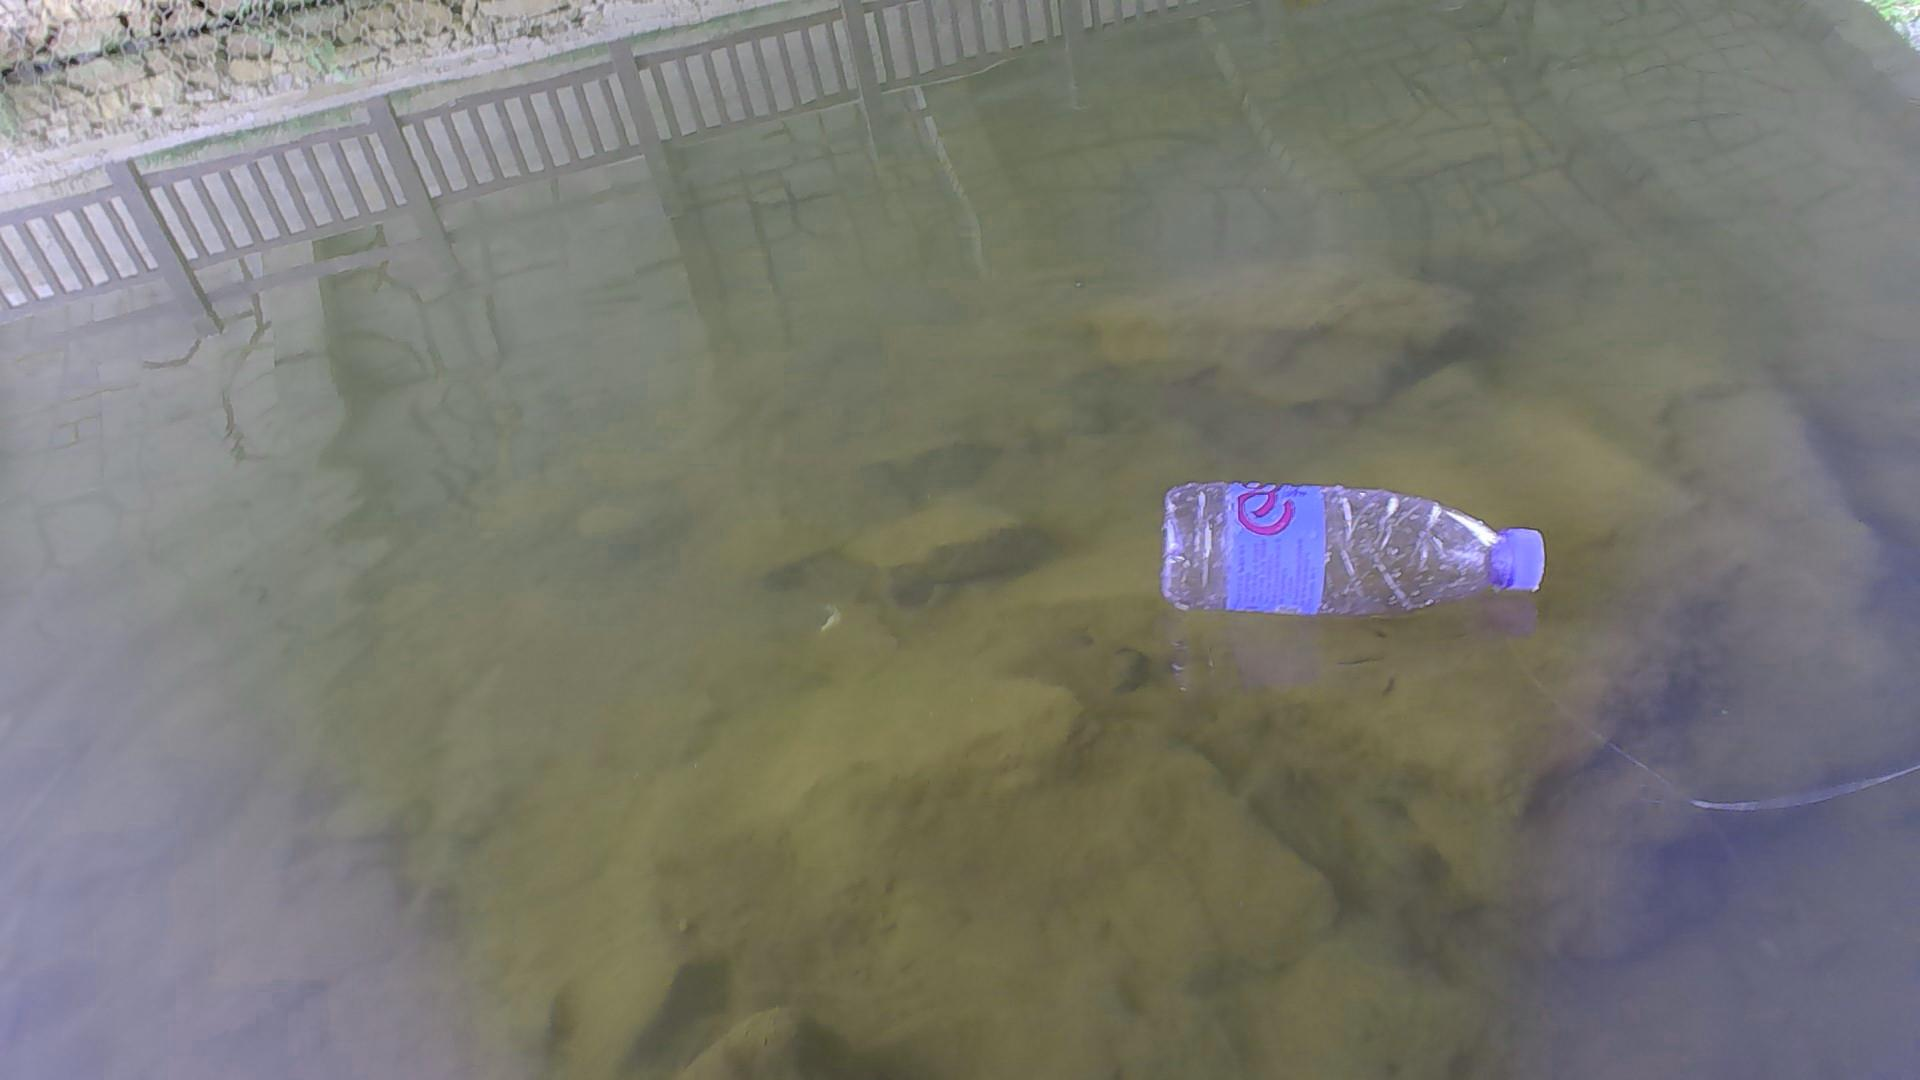Plastic: (1150, 475, 1556, 618)
